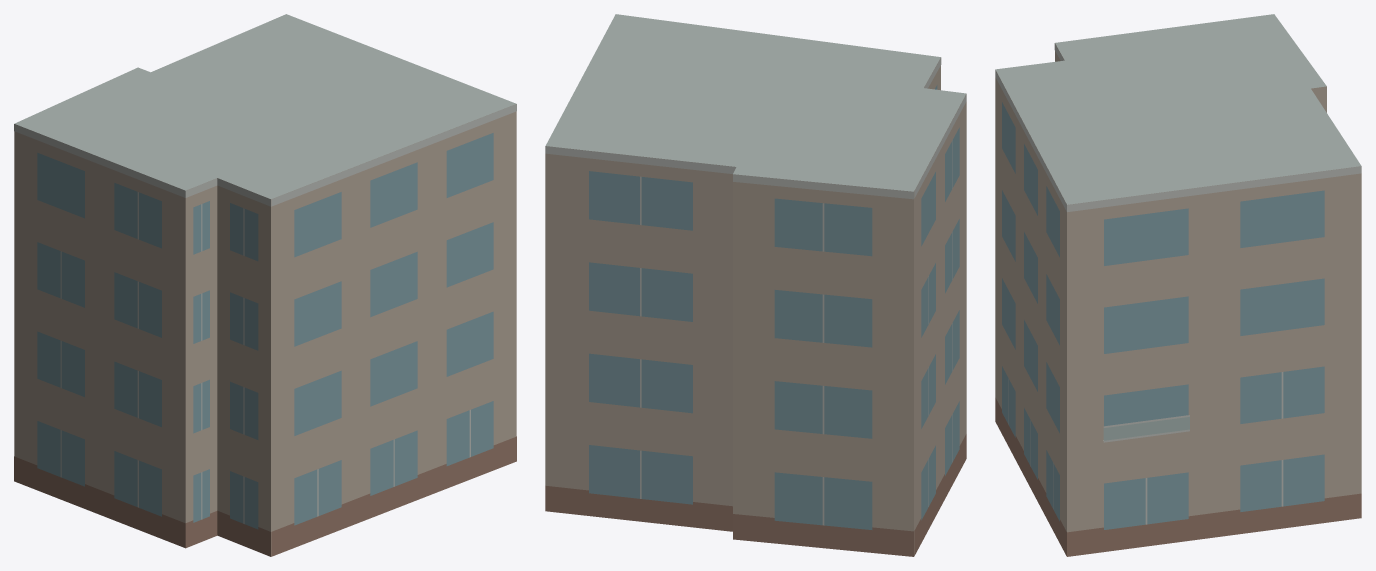
The model's file is survey-upis-32808161.glb.
3 renders of one model, left to right at view 1: azimuth 30°, elevation 25°; view 2: azimuth 150°, elevation 25°; view 3: azimuth 270°, elevation 25°, orthographic. The views are drawn at different scales.
Parts seen in each view (by area): view 1: survey-upis-32808161.tmp; view 2: survey-upis-32808161.tmp; view 3: survey-upis-32808161.tmp.
Part boxes in pixels (x1,y1,x2,y2): survey-upis-32808161.tmp: (14, 14, 516, 556); survey-upis-32808161.tmp: (545, 14, 966, 556); survey-upis-32808161.tmp: (995, 14, 1361, 556).
Size of the model in its own units: 13.6 by 11.69 by 11.04.
